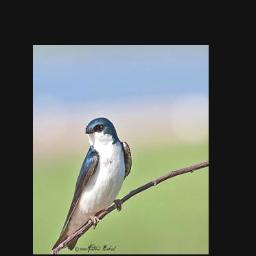Swallow: (51, 115, 132, 252)
